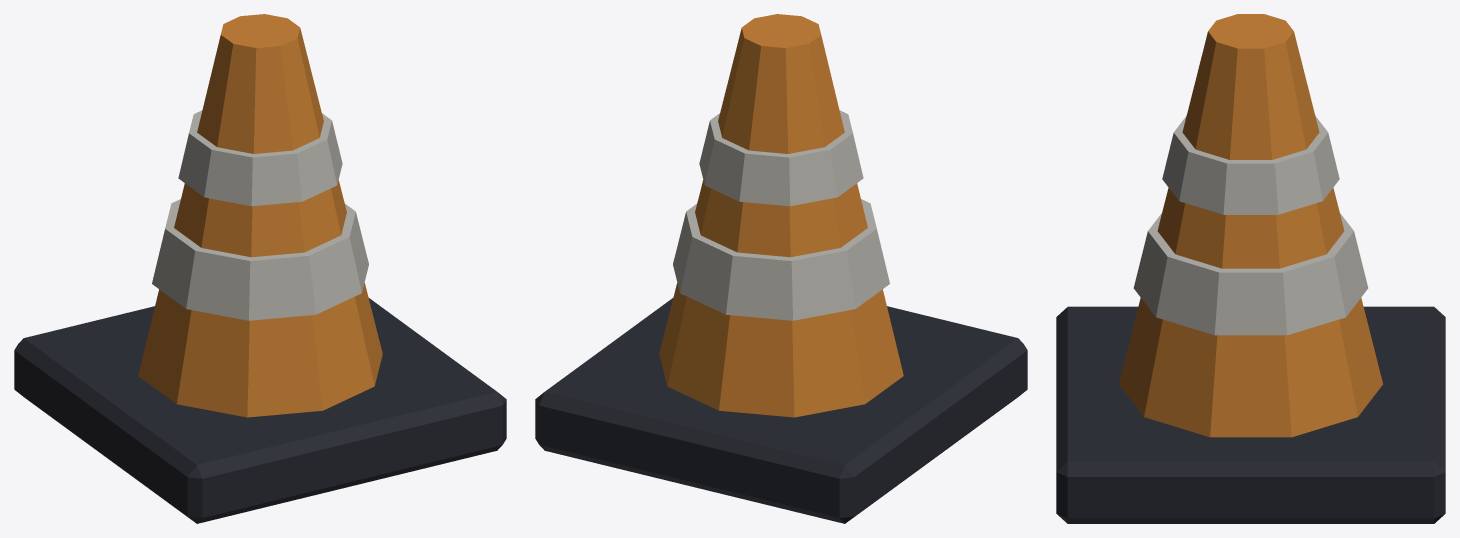
Rendered from Stylized_Prop_TrafficCone.fbx.
The picture shows the model from 3 angles, left to right: view 1: azimuth 30°, elevation 25°; view 2: azimuth 150°, elevation 25°; view 3: azimuth 270°, elevation 25°; orthographic projection. The views are drawn at different scales.
Parts seen in each view (by area): view 1: Stylized_Prop_TrafficCone; view 2: Stylized_Prop_TrafficCone; view 3: Stylized_Prop_TrafficCone.
Boxes of the visible parts, <box> form: Stylized_Prop_TrafficCone: <box>14,14,506,523</box>; Stylized_Prop_TrafficCone: <box>535,14,1027,523</box>; Stylized_Prop_TrafficCone: <box>1056,14,1445,523</box>.
Bounding box in the file's own units: 0.68 × 0.8 × 0.68.
